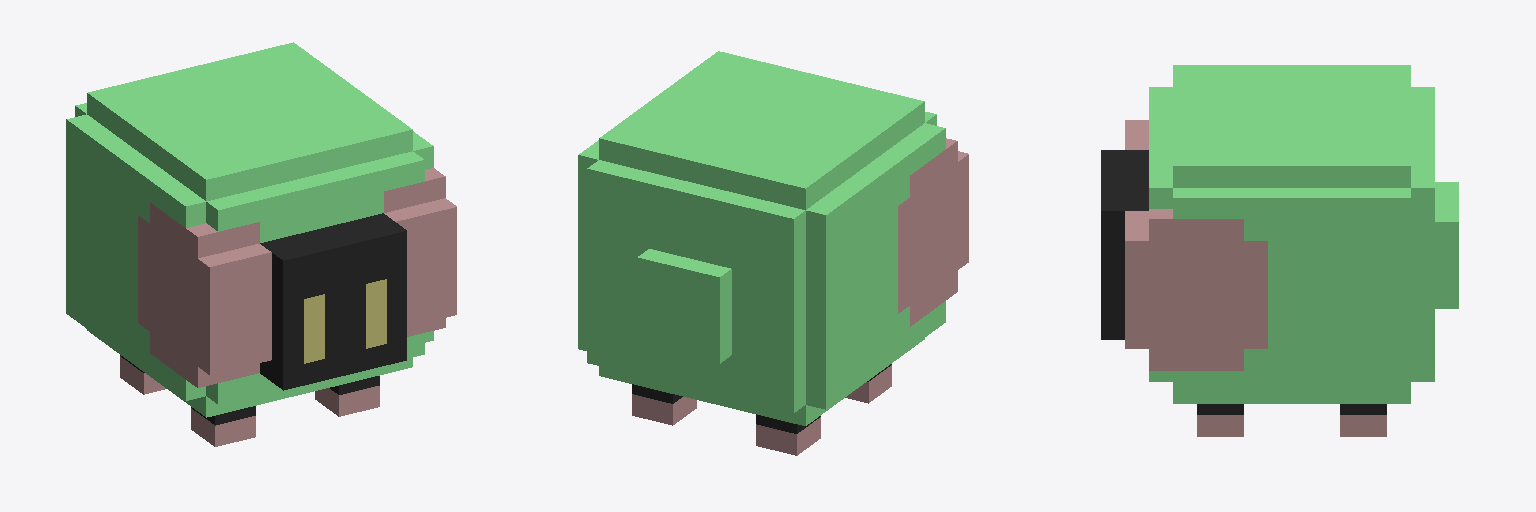
3 renders of one model, left to right at view 1: azimuth 30°, elevation 25°; view 2: azimuth 150°, elevation 25°; view 3: azimuth 270°, elevation 25°, orthographic.
Visible parts, largest first — view 1: object 1; view 2: object 1; view 3: object 1.
Boxes of the visible parts, x1=… form: object 1: x1=66, y1=42, x2=456, y2=446; object 1: x1=578, y1=51, x2=968, y2=455; object 1: x1=1101, y1=65, x2=1458, y2=436.
Bounding box in the file's own units: 1.2 × 1.3 × 1.5.
Materials: 1 (1 with a texture image).